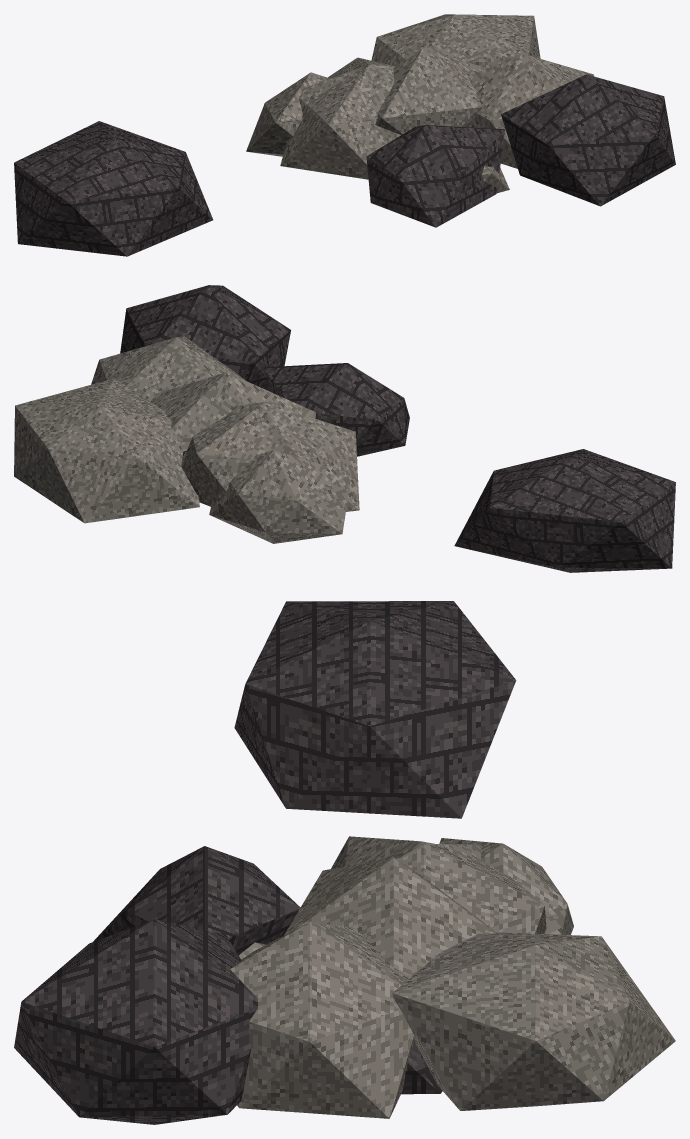
Rendered from rubble_basalt.glb.
3 views of the same model, one above another, from view 1: azimuth 30°, elevation 25°; view 2: azimuth 150°, elevation 25°; view 3: azimuth 270°, elevation 25° (orthographic). The views are drawn at different scales.
Parts seen in each view (by area): view 1: Body.006; view 2: Body.006; view 3: Body.006.
Boxes of the visible parts, left/top/right/bottom form: Body.006: left=14, top=14, right=675, bottom=256; Body.006: left=14, top=285, right=675, bottom=572; Body.006: left=14, top=601, right=675, bottom=1124.
Size of the model in its own units: 2.99 by 0.6233 by 1.82.
2 materials, 2 textured.
